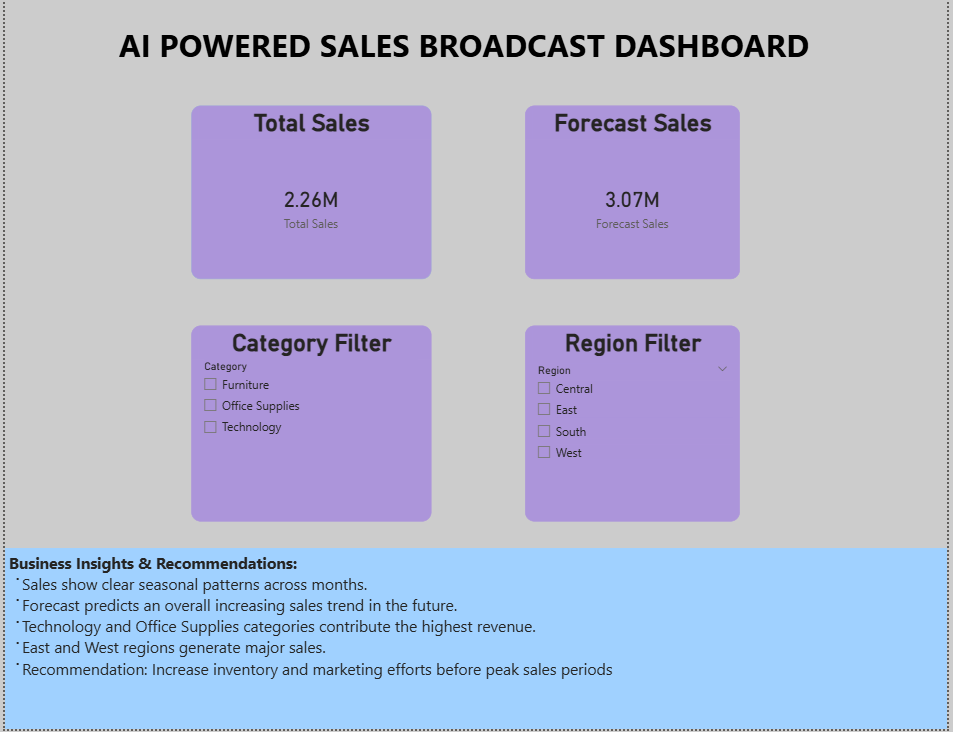

This screenshot's page, from the dashboard's own definition file:
{"tool":"powerbi","page":{"name":"OVERVIEW","canvas":[1280,1000],"ordinal":0},"visuals":[{"type":"card","title":"Forecast Sales","fields":{"Values":["forecast.Forecast Sales"]},"box":[706.5,152.9,292.1,236.1],"z":0},{"type":"card","title":"Total Sales","fields":{"Values":["forecast.Total Sales"]},"box":[253.1,152.9,326.1,236.1],"z":1000},{"type":"slicer","title":"Category Filter","fields":{"Values":["train.Category"]},"box":[253.1,451.8,326.1,266.6],"z":2000},{"type":"slicer","title":"Region Filter","fields":{"Values":["train.Region"]},"box":[706.5,451.8,292.1,266.6],"z":3000},{"type":"textbox","box":[149.5,35.7,1064.9,83.2],"z":3001},{"type":"textbox","box":[0,754.1,1280.6,246.3],"z":3002}]}

Visuals, with their boxes in screenshot pixels (x1, y1, x2, y2), scaled from the page's 1280x1000 canvas onto the 953x732 screenshot:
"Forecast Sales" card: 526:112:743:285
"Total Sales" card: 188:112:431:285
"Category Filter" slicer: 188:331:431:526
"Region Filter" slicer: 526:331:743:526
textbox: 111:26:904:87
textbox: 0:552:952:731
